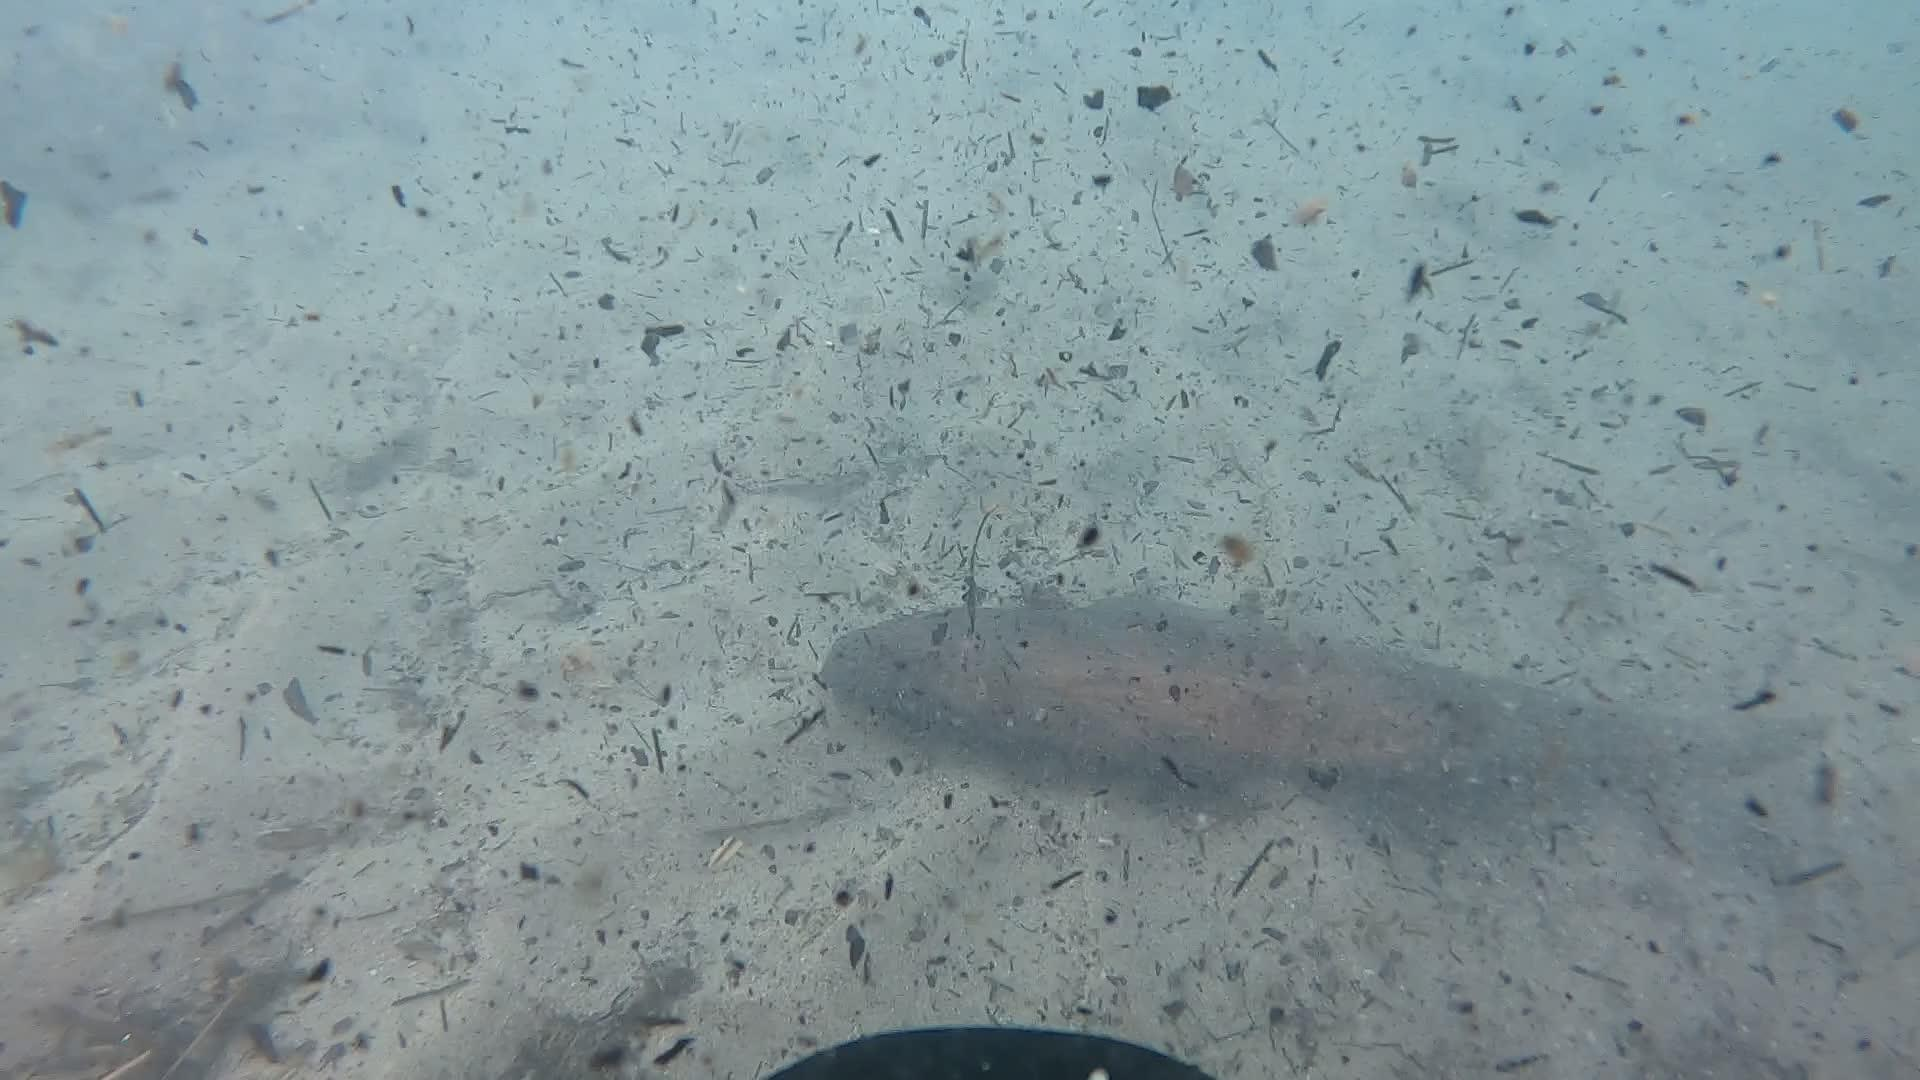wood: (818, 578, 1844, 804)
